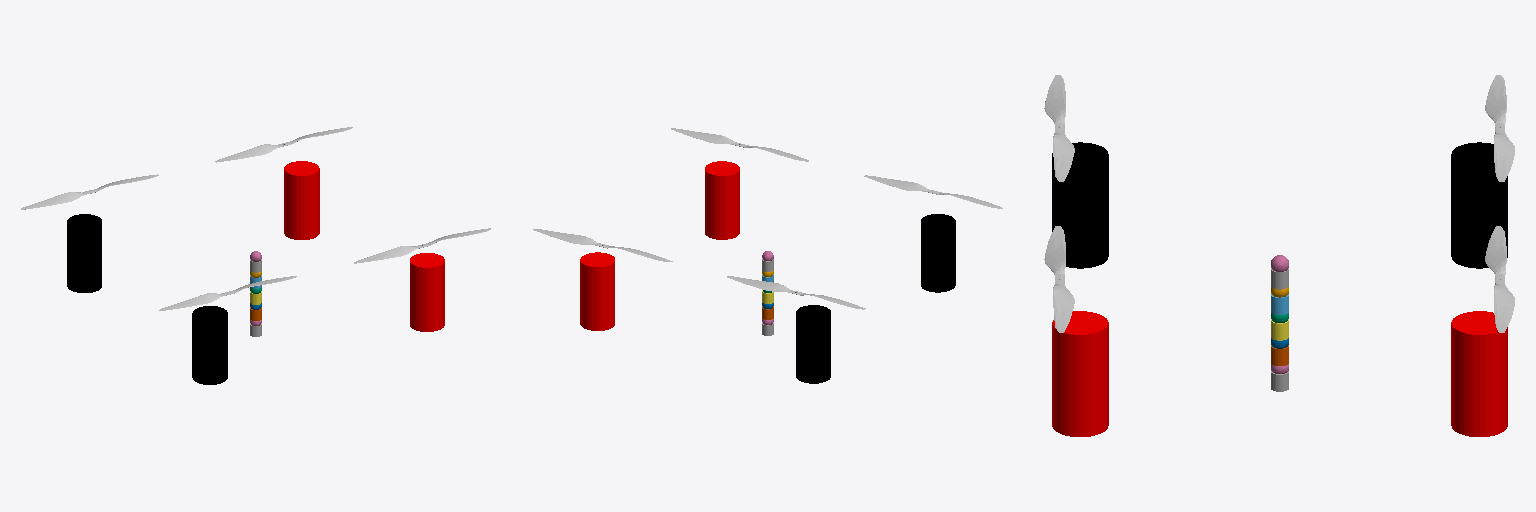
robot.urdf — a300_rope:
<?xml version="1.0" ?>

<robot name="a300_rope">

  <!-- The drone parameters and their randomization ranges are in hydra_configs/drone/a300.yaml, whose
       nominals are written into Genesis at build. kf and km are here because Genesis needs them to load. -->
  <properties kf="4.5e-8" km="5.4e-10" />

  <link name="base_link"> 

    <inertial>
      <origin rpy="0 0 0" xyz="0 0 0"/>
      <mass value="1.21"/>
      <inertia ixx=".007" ixy="0.0" ixz="0.0" iyy=".007" iyz="0.0" izz=".01"/>
    </inertial>

    <visual>
      <origin rpy="0 0 55" xyz="0 0 0.075"/>
      <geometry>
        <mesh filename="./mesh/a300/frame.stl" scale="0.001 0.001 0.001"/>
      </geometry> 
      <material name="frame">
        <color rgba="0.2 0.2 0.2 1"/>
      </material> 
    </visual>

    <visual>
      <origin rpy="0 0 55" xyz="0.106 -0.106 0.075"/>
      <geometry>
        <mesh filename="./mesh/a300/motor.stl" scale="0.001 0.001 0.001"/>
      </geometry> 
      <material name="motor">
        <color rgba="0 .0 .0 1"/>
      </material> 
    </visual>
    <visual>
      <origin rpy="0 0 55" xyz="-0.106 0.106 0.075"/>
      <geometry>
        <mesh filename="./mesh/a300/motor.stl" scale="0.001 0.001 0.001"/>
      </geometry> 
      <material name="motor">
        <color rgba="0 .0 .0 1"/>
      </material> 
    </visual>
    <visual>
      <origin rpy="0 0 55" xyz="0.106 0.106 0.075"/>
      <geometry>
        <mesh filename="./mesh/a300/motor.stl" scale="0.001 0.001 0.001"/>
      </geometry> 
      <material name="motor">
        <color rgba="0 .0 .0 1"/>
      </material> 
    </visual>
    <visual>
      <origin rpy="0 0 55" xyz="-0.106 -0.106 0.075"/>
      <geometry>
        <mesh filename="./mesh/a300/motor.stl" scale="0.001 0.001 0.001"/>
      </geometry> 
      <material name="motor">
        <color rgba="0 .0 .0 1"/>
      </material> 
    </visual>


<!-- Added 4 Cylindrical Legs -->
    <visual>
      <origin rpy="0 0 0" xyz="0.106 -0.106 -0.03"/>
      <geometry>
        <cylinder radius="0.015" length="0.06"/>
      </geometry>
      <material name="red"><color rgba="1 0 0 1"/></material>
    </visual>
    <visual>
      <origin rpy="0 0 0" xyz="-0.106 0.106 -0.03"/>
      <geometry>
        <cylinder radius="0.015" length="0.06"/>
      </geometry>
      <material name="black"><color rgba="0 0 0 1"/></material>
    </visual>
    <visual>
      <origin rpy="0 0 0" xyz="0.106 0.106 -0.03"/>
      <geometry>
        <cylinder radius="0.015" length="0.06"/>
      </geometry>
      <material name="red"><color rgba="1 0 0 1"/></material>
    </visual>
    <visual>
      <origin rpy="0 0 0" xyz="-0.106 -0.106 -0.03"/>
      <geometry>
        <cylinder radius="0.015" length="0.06"/>
      </geometry>
      <material name="black"><color rgba="0 0 0 1"/></material>
    </visual>


    <collision>
      <origin rpy="0 0 0" xyz="0 0 0"/>
      <geometry>
        <cylinder radius=".06" length=".025"/>
      </geometry>
    </collision>  

  </link>

  <!-- Rotor positions match the Gazebo model (alien_gazebo_resources a300.sdf.jinja,
       rotor_xy_offset = 0.1: x = +-0.095, y = +-0.117) instead of the symmetric +-0.106.
       Thrust is applied at each prop link's inertial origin. The frame/motor/leg visuals
       on base_link are unchanged. -->
  <link name="prop0_link">
    <inertial>
      <origin rpy="0 0 0" xyz="0.095 -0.117 0"/>
      <mass value="0"/>
      <inertia ixx="0" ixy="0" ixz="0" iyy="0" iyz="0" izz="0"/>
    </inertial>
    <visual>
      <origin rpy="0 0 0" xyz="0.095 -0.117 0.02"/>
      <geometry>
          <mesh filename="./mesh/a300/prop.dae"  scale="0.4 0.4 0.4"/>
      </geometry> 
    </visual>
  </link>
  <joint name="prop0_joint" type="fixed">
    <parent link="base_link"/>
    <child link="prop0_link"/>
  </joint>

  <link name="prop1_link">
    <inertial>
      <origin rpy="0 0 0" xyz="-0.095 0.117 0"/>
      <mass value="0"/>
      <inertia ixx="0" ixy="0" ixz="0" iyy="0" iyz="0" izz="0"/>
    </inertial>
    <visual>
      <origin rpy="0 0 0" xyz="-0.095 0.117 0.02"/>
      <geometry>
          <mesh filename="./mesh/a300/prop.dae"  scale="0.4 0.4 0.4"/>
      </geometry> 
    </visual>
  </link>
  <joint name="prop1_joint" type="fixed">
    <parent link="base_link"/>
    <child link="prop1_link"/>
  </joint>

  <link name="prop2_link">
    <inertial>
      <origin rpy="0 0 0" xyz="0.095 0.117 0"/>
      <mass value="0"/>
      <inertia ixx="0" ixy="0" ixz="0" iyy="0" iyz="0" izz="0"/>
    </inertial>
    <visual>
      <origin rpy="0 0 0" xyz="0.095 0.117 0.02"/>
      <geometry>
          <mesh filename="./mesh/a300/prop.dae"  scale="0.4 0.4 0.4"/>
      </geometry>
    </visual>
  </link>
  <joint name="prop2_joint" type="fixed">
    <parent link="base_link"/>
    <child link="prop2_link"/>
  </joint>

  <link name="prop3_link">
    <inertial>
      <origin rpy="0 0 0" xyz="-0.095 -0.117 0"/>
      <mass value="0"/>
      <inertia ixx="0" ixy="0" ixz="0" iyy="0" iyz="0" izz="0"/>
    </inertial>
    <visual>
      <origin rpy="0 0 0" xyz="-0.095 -0.117 0.02"/>
      <geometry>
          <mesh filename="./mesh/a300/prop.dae"  scale="0.4 0.4 0.4"/>
      </geometry>
    </visual>
  </link>
  <joint name="prop3_joint" type="fixed">
    <parent link="base_link"/>
    <child link="prop3_link"/>
  </joint>


  <link name="center_of_mass_link">
    <inertial>
      <origin rpy="0 0 0" xyz="0 0 0"/>
      <mass value="0"/>
      <inertia ixx="0" ixy="0" ixz="0" iyy="0" iyz="0" izz="0"/>
    </inertial>
  </link>
  <joint name="center_of_mass_joint" type="fixed">
    <parent link="base_link"/>
    <child link="center_of_mass_link"/>
  </joint>

  <!-- rope of 5 segments (two revolute joints each) hanging from the COM, as in bros300.urdf; the rod
       task welds a rod to segment_5_cylinder -->
<!-- Spherical joint -->
  <link name="segment_1_sphere">
    <visual>
      <geometry>
        <sphere radius="0.005"/>
      </geometry>
      <material name="gray"/>
    </visual>
    <inertial>
      <origin rpy="0 0 0" xyz="0 0 0"/>
      <mass value="0.002"/>
      <inertia ixx="1e-7" ixy="0" ixz="0" iyy="1e-7" iyz="0" izz="1e-7"/>
    </inertial>
  </link>
  <joint name="center_of_mass_link_to_segment_1_sphere" type="revolute">
    <parent link="center_of_mass_link"/>
    <child link="segment_1_sphere"/>
    <origin rpy="0 0 0" xyz="0 0 -0.015"/>
    <axis xyz="0 1 0"/>
    <limit effort="10" lower="-3.14" upper="3.14" velocity="3"/>
    <dynamics damping="0.1" friction="0.0"/>
  </joint>
  <!-- Cylinder segment -->
  <link name="segment_1_cylinder">
    <visual>
      <geometry>
        <cylinder length="0.01" radius="0.005"/>
      </geometry>
      <origin rpy="0 0 0" xyz="0 0 -0.0075"/>
      <material name="blue"/>
    </visual>
    <inertial>
      <origin rpy="0 0 0" xyz="0 0 -0.0075"/>
      <mass value="0.002"/>
      <inertia ixx="1e-7" ixy="0" ixz="0" iyy="1e-7" iyz="0" izz="1e-7"/>
    </inertial>
  </link>
  <joint name="segment_1_sphere_to_cylinder" type="revolute">
    <parent link="segment_1_sphere"/>
    <child link="segment_1_cylinder"/>
    <origin rpy="0 0 0" xyz="0 0 0"/>
    <axis xyz="1 0 0"/>
    <limit effort="10" lower="-3.14" upper="3.14" velocity="3"/>
    <dynamics damping="0.1" friction="0.0"/>
  </joint>

  <!-- Spherical joint -->
  <link name="segment_2_sphere">
    <visual>
      <geometry>
        <sphere radius="0.005"/>
      </geometry>
      <material name="gray"/>
    </visual>
    <inertial>
      <origin rpy="0 0 0" xyz="0 0 0"/>
      <mass value="0.002"/>
      <inertia ixx="1e-7" ixy="0" ixz="0" iyy="1e-7" iyz="0" izz="1e-7"/>
    </inertial>
  </link>
  <joint name="segment_1_cylinder_to_segment_2_sphere" type="revolute">
    <parent link="segment_1_cylinder"/>
    <child link="segment_2_sphere"/>
    <origin rpy="0 0 0" xyz="0 0 -0.015"/>
    <axis xyz="0 1 0"/>
    <limit effort="10" lower="-3.14" upper="3.14" velocity="3"/>
    <dynamics damping="0.1" friction="0.0"/>
  </joint>
  <!-- Cylinder segment -->
  <link name="segment_2_cylinder">
    <visual>
      <geometry>
        <cylinder length="0.01" radius="0.005"/>
      </geometry>
      <origin rpy="0 0 0" xyz="0 0 -0.0075"/>
      <material name="blue"/>
    </visual>
    <inertial>
      <origin rpy="0 0 0" xyz="0 0 -0.0075"/>
      <mass value="0.002"/>
      <inertia ixx="1e-7" ixy="0" ixz="0" iyy="1e-7" iyz="0" izz="1e-7"/>
    </inertial>
  </link>
  <joint name="segment_2_sphere_to_cylinder" type="revolute">
    <parent link="segment_2_sphere"/>
    <child link="segment_2_cylinder"/>
    <origin rpy="0 0 0" xyz="0 0 0"/>
    <axis xyz="1 0 0"/>
    <limit effort="10" lower="-3.14" upper="3.14" velocity="3"/>
    <dynamics damping="0.1" friction="0.0"/>
  </joint>

  <!-- Spherical joint -->
  <link name="segment_3_sphere">
    <visual>
      <geometry>
        <sphere radius="0.005"/>
      </geometry>
      <material name="gray"/>
    </visual>
    <inertial>
      <origin rpy="0 0 0" xyz="0 0 0"/>
      <mass value="0.002"/>
      <inertia ixx="1e-7" ixy="0" ixz="0" iyy="1e-7" iyz="0" izz="1e-7"/>
    </inertial>
  </link>
  <joint name="segment_2_cylinder_to_segment_3_sphere" type="revolute">
    <parent link="segment_2_cylinder"/>
    <child link="segment_3_sphere"/>
    <origin rpy="0 0 0" xyz="0 0 -0.015"/>
    <axis xyz="0 1 0"/>
    <limit effort="10" lower="-3.14" upper="3.14" velocity="3"/>
    <dynamics damping="0.1" friction="0.0"/>
  </joint>
  <!-- Cylinder segment -->
  <link name="segment_3_cylinder">
    <visual>
      <geometry>
        <cylinder length="0.01" radius="0.005"/>
      </geometry>
      <origin rpy="0 0 0" xyz="0 0 -0.0075"/>
      <material name="blue"/>
    </visual>
    <inertial>
      <origin rpy="0 0 0" xyz="0 0 -0.0075"/>
      <mass value="0.002"/>
      <inertia ixx="1e-7" ixy="0" ixz="0" iyy="1e-7" iyz="0" izz="1e-7"/>
    </inertial>
  </link>
  <joint name="segment_3_sphere_to_cylinder" type="revolute">
    <parent link="segment_3_sphere"/>
    <child link="segment_3_cylinder"/>
    <origin rpy="0 0 0" xyz="0 0 0"/>
    <axis xyz="1 0 0"/>
    <limit effort="10" lower="-3.14" upper="3.14" velocity="3"/>
    <dynamics damping="0.1" friction="0.0"/>
  </joint>

  <!-- Spherical joint -->
  <link name="segment_4_sphere">
    <visual>
      <geometry>
        <sphere radius="0.005"/>
      </geometry>
      <material name="gray"/>
    </visual>
    <inertial>
      <origin rpy="0 0 0" xyz="0 0 0"/>
      <mass value="0.002"/>
      <inertia ixx="1e-7" ixy="0" ixz="0" iyy="1e-7" iyz="0" izz="1e-7"/>
    </inertial>
  </link>
  <joint name="segment_3_cylinder_to_segment_4_sphere" type="revolute">
    <parent link="segment_3_cylinder"/>
    <child link="segment_4_sphere"/>
    <origin rpy="0 0 0" xyz="0 0 -0.015"/>
    <axis xyz="0 1 0"/>
    <limit effort="10" lower="-3.14" upper="3.14" velocity="3"/>
    <dynamics damping="0.1" friction="0.0"/>
  </joint>
  <!-- Cylinder segment -->
  <link name="segment_4_cylinder">
    <visual>
      <geometry>
        <cylinder length="0.01" radius="0.005"/>
      </geometry>
      <origin rpy="0 0 0" xyz="0 0 -0.0075"/>
      <material name="blue"/>
    </visual>
    <inertial>
      <origin rpy="0 0 0" xyz="0 0 -0.0075"/>
      <mass value="0.002"/>
      <inertia ixx="1e-7" ixy="0" ixz="0" iyy="1e-7" iyz="0" izz="1e-7"/>
    </inertial>
  </link>
  <joint name="segment_4_sphere_to_cylinder" type="revolute">
    <parent link="segment_4_sphere"/>
    <child link="segment_4_cylinder"/>
    <origin rpy="0 0 0" xyz="0 0 0"/>
    <axis xyz="1 0 0"/>
    <limit effort="10" lower="-3.14" upper="3.14" velocity="3"/>
    <dynamics damping="0.1" friction="0.0"/>
  </joint>

  <!-- Spherical joint -->
  <link name="segment_5_sphere">
    <visual>
      <geometry>
        <sphere radius="0.005"/>
      </geometry>
      <material name="gray"/>
    </visual>
    <inertial>
      <origin rpy="0 0 0" xyz="0 0 0"/>
      <mass value="0.002"/>
      <inertia ixx="1e-7" ixy="0" ixz="0" iyy="1e-7" iyz="0" izz="1e-7"/>
    </inertial>
  </link>
  <joint name="segment_4_cylinder_to_segment_5_sphere" type="revolute">
    <parent link="segment_4_cylinder"/>
    <child link="segment_5_sphere"/>
    <origin rpy="0 0 0" xyz="0 0 -0.015"/>
    <axis xyz="0 1 0"/>
    <limit effort="10" lower="-3.14" upper="3.14" velocity="3"/>
    <dynamics damping="0.1" friction="0.0"/>
  </joint>
  <!-- Cylinder segment -->
  <link name="segment_5_cylinder">
    <visual>
      <geometry>
        <cylinder length="0.01" radius="0.005"/>
      </geometry>
      <origin rpy="0 0 0" xyz="0 0 -0.0075"/>
      <material name="blue"/>
    </visual>
    <inertial>
      <origin rpy="0 0 0" xyz="0 0 -0.0075"/>
      <mass value="0.002"/>
      <inertia ixx="1e-7" ixy="0" ixz="0" iyy="1e-7" iyz="0" izz="1e-7"/>
    </inertial>
  </link>
  <joint name="segment_5_sphere_to_cylinder" type="revolute">
    <parent link="segment_5_sphere"/>
    <child link="segment_5_cylinder"/>
    <origin rpy="0 0 0" xyz="0 0 0"/>
    <axis xyz="1 0 0"/>
    <limit effort="10" lower="-3.14" upper="3.14" velocity="3"/>
    <dynamics damping="0.1" friction="0.0"/>
  </joint>

</robot>

--- Facts derived from the render (not from the file) ---
The picture shows the robot from 3 angles, left to right: view 1: azimuth 30°, elevation 25°; view 2: azimuth 150°, elevation 25°; view 3: azimuth 270°, elevation 25°; orthographic projection.
Robot: a300_rope — 16 links, 15 joints (10 revolute, 5 fixed); root link base_link; default pose: every joint at zero.
Visible links, largest first — view 1: base_link, prop2_link, prop0_link, prop1_link, prop3_link; view 2: base_link, prop2_link, prop0_link, prop3_link, prop1_link; view 3: base_link, prop1_link, prop2_link, prop0_link, prop3_link.
Link boxes in pixels (x1,y1,x2,y2): base_link: (67, 161, 444, 384); prop2_link: (215, 127, 352, 162); prop0_link: (354, 228, 490, 263); prop1_link: (21, 174, 158, 209); prop3_link: (159, 276, 296, 310); base_link: (580, 161, 955, 383); prop2_link: (533, 229, 672, 261); prop0_link: (671, 128, 808, 161); prop3_link: (864, 175, 1002, 208); prop1_link: (727, 276, 865, 309); base_link: (1052, 142, 1507, 436); prop1_link: (1485, 75, 1514, 181); prop2_link: (1485, 226, 1514, 332); prop0_link: (1044, 226, 1074, 332); prop3_link: (1044, 75, 1074, 181).
Bounding box of the posed robot: 0.3252 × 0.2502 × 0.1107 m (x, y, z).
4 mesh visuals loaded from 3 distinct referenced files (1 Collada DAE); not drawn: 5 (reference not matched to a file when rendering).
